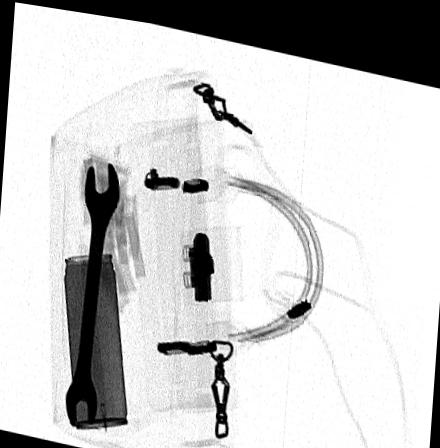Wrench: (64, 158, 120, 424)
